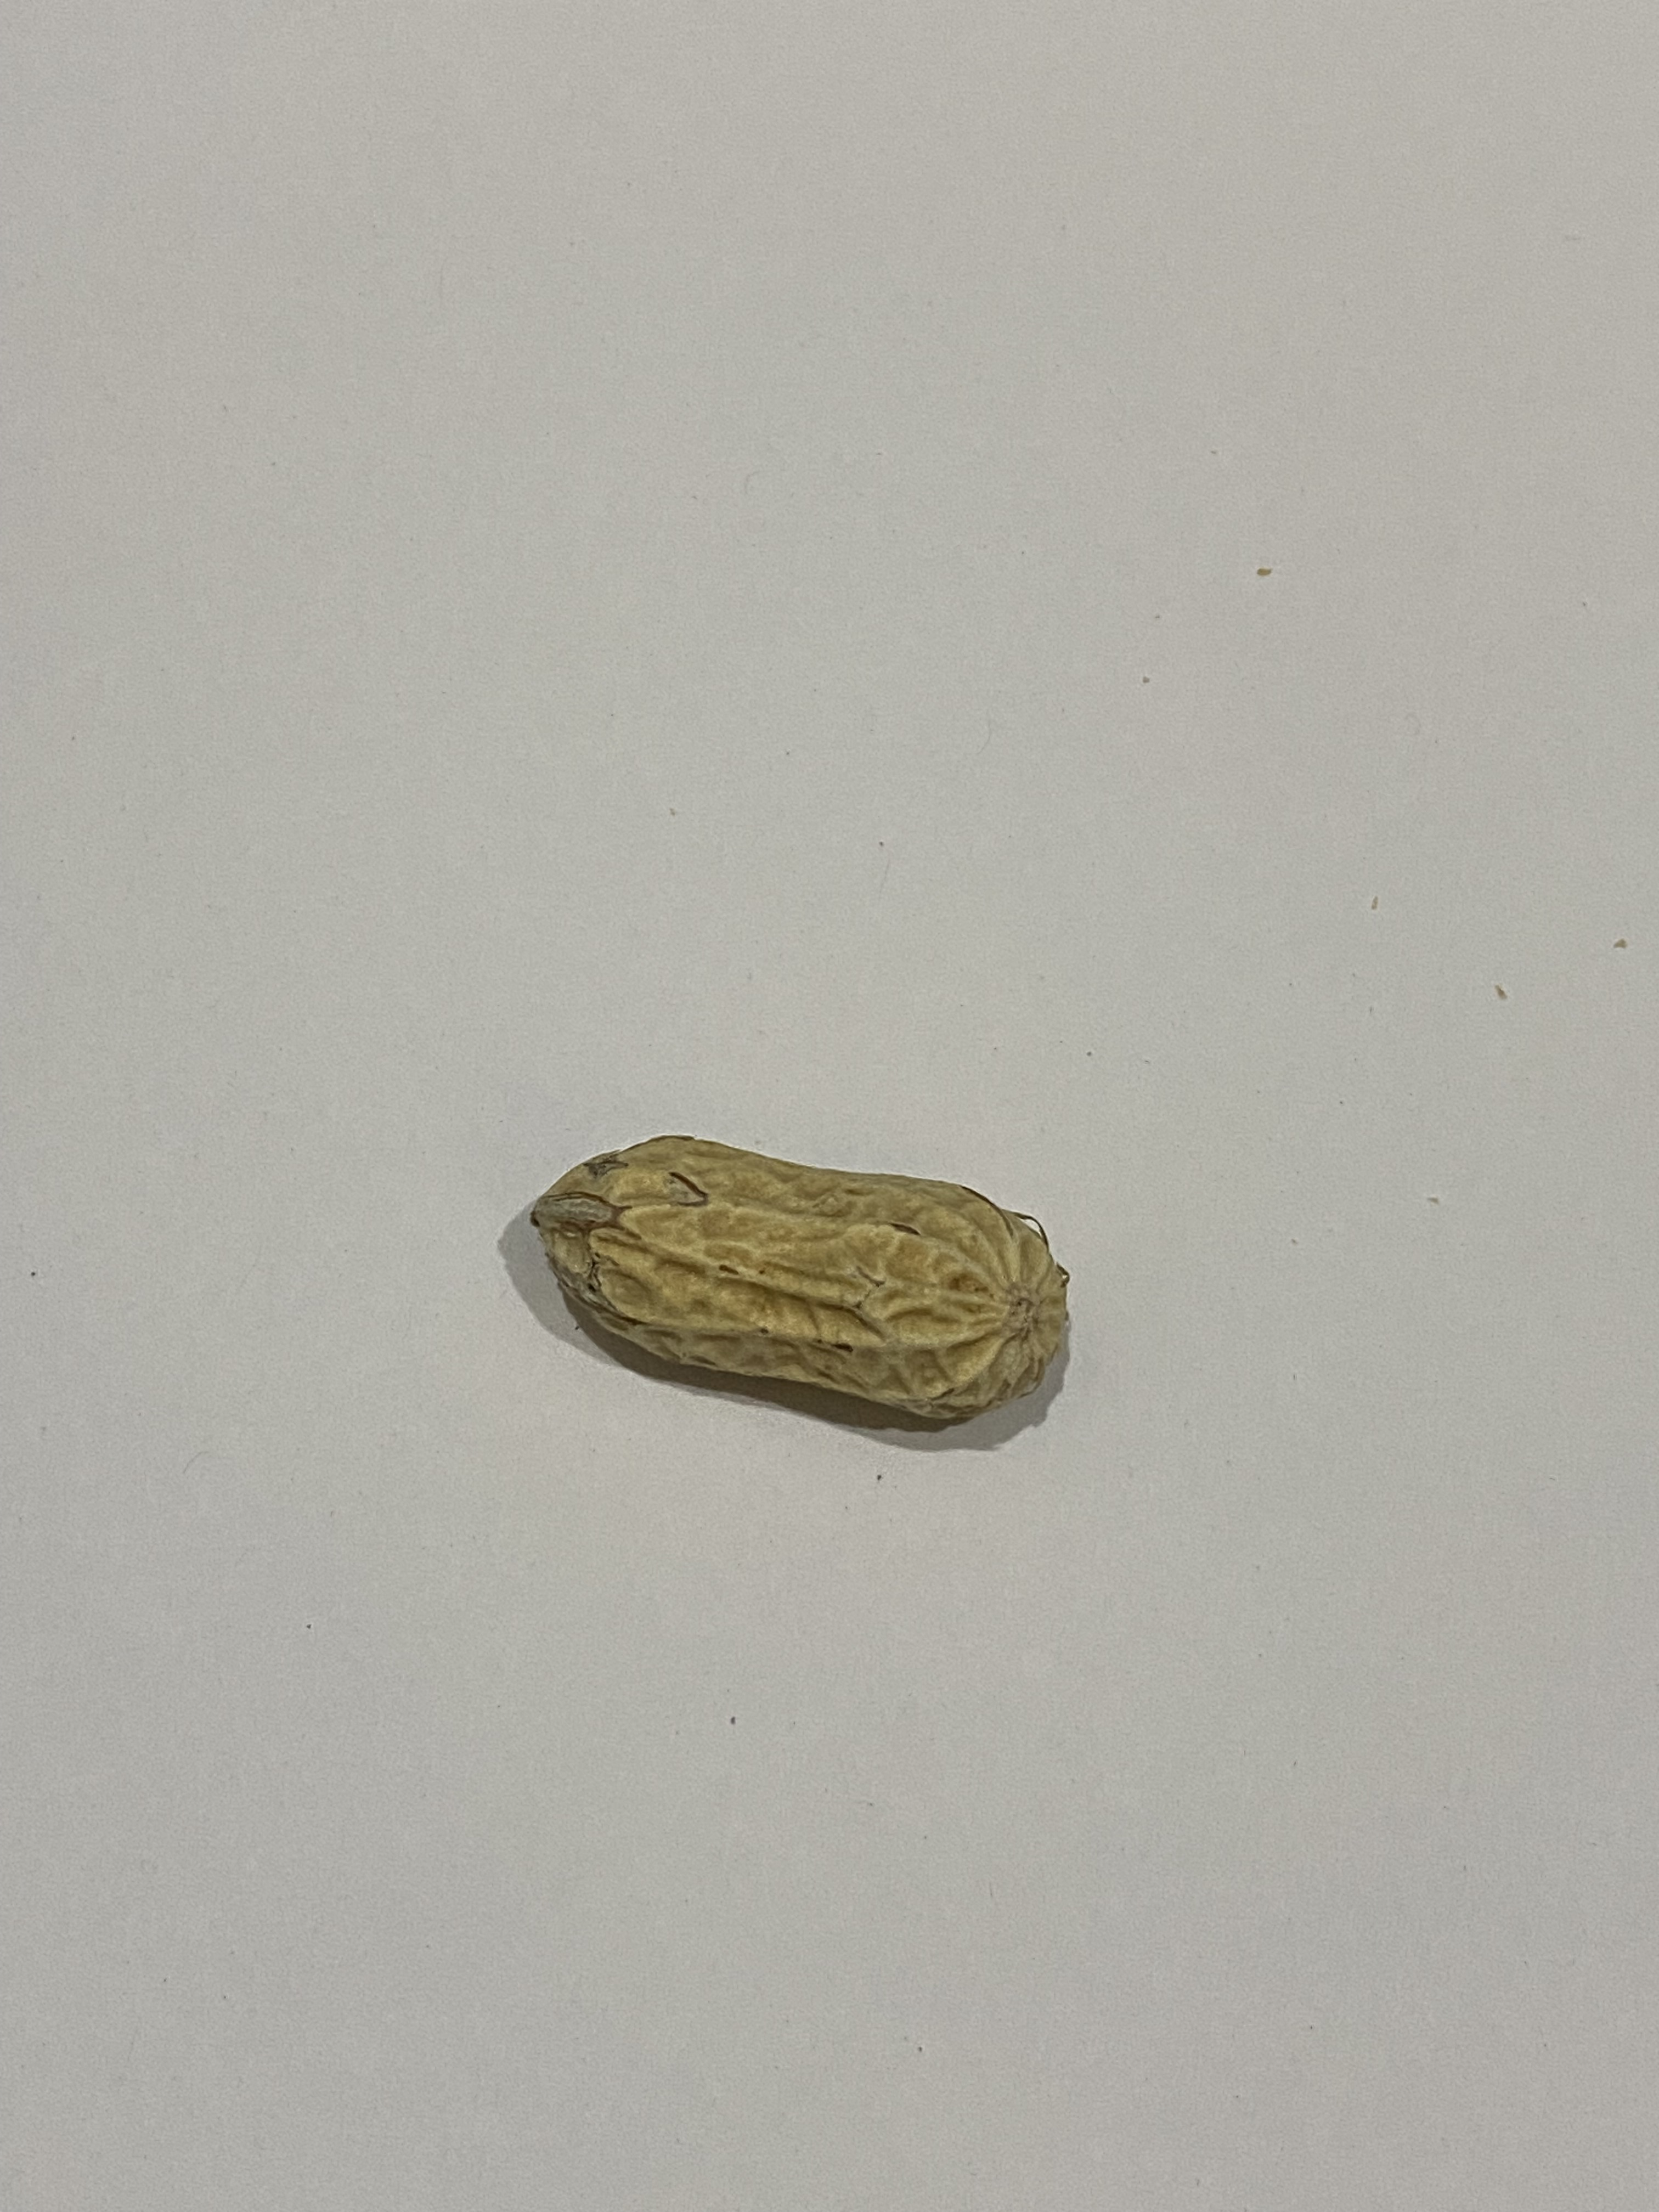kacang2: (484, 1116, 1098, 1439)
